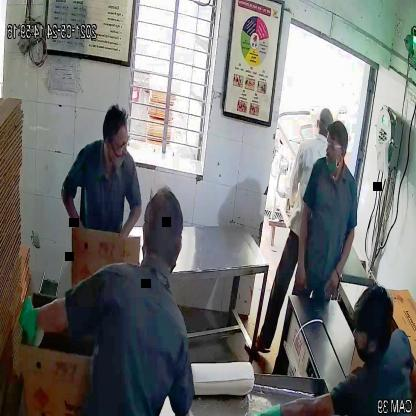goggles: (324, 139, 350, 154)
